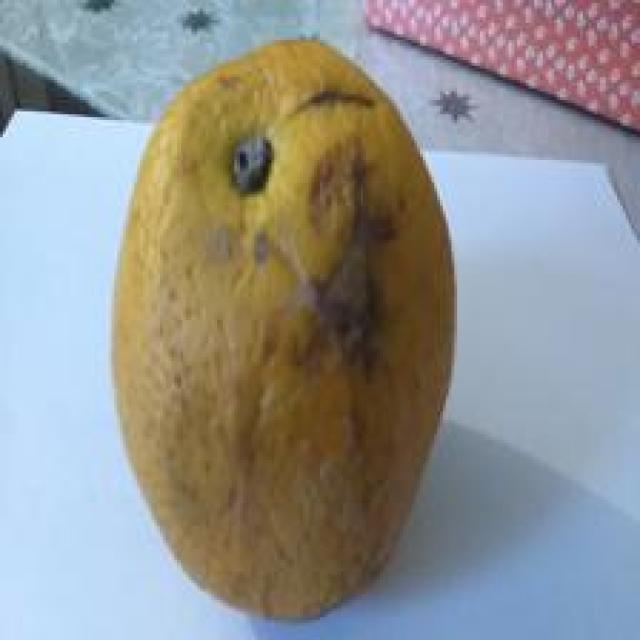overripe: (100, 29, 470, 625)
